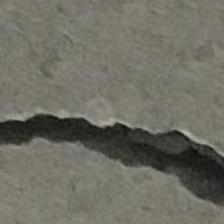Crack: (3, 27, 223, 224)
